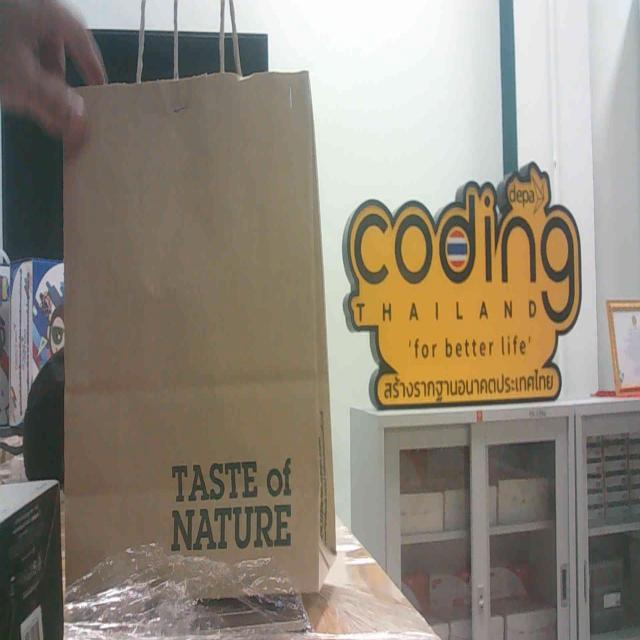bag: (60, 78, 336, 598)
